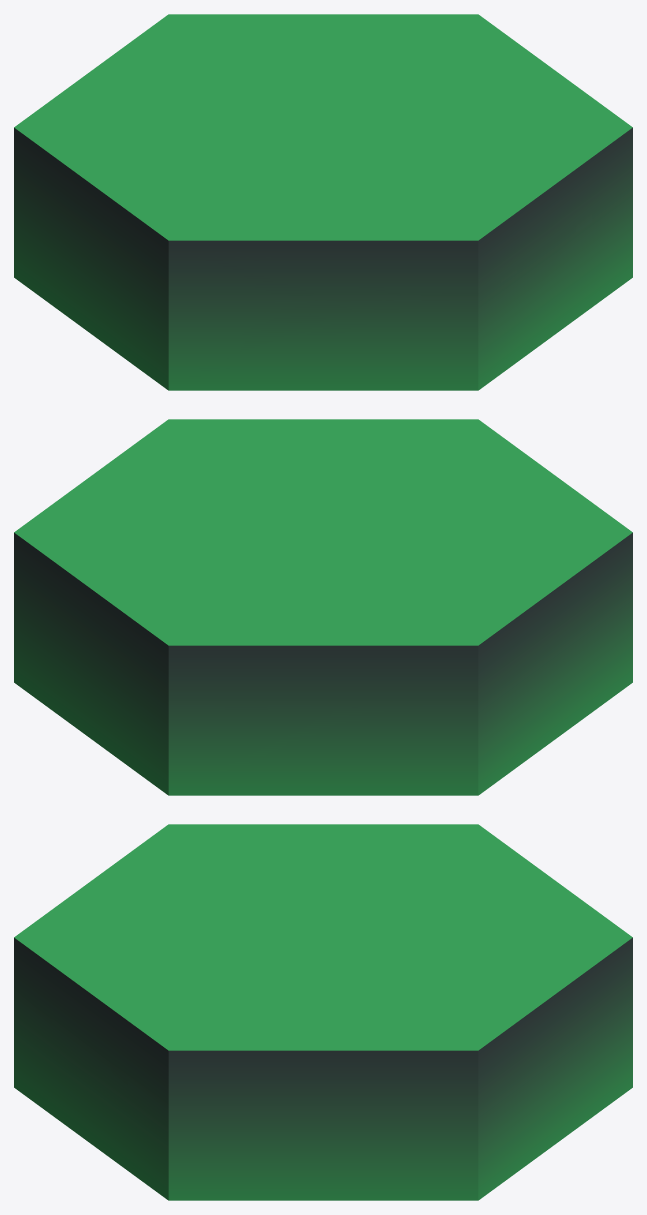
File: Grade_6.fbx
3 renders of one model, top to bottom at view 1: azimuth 30°, elevation 25°; view 2: azimuth 150°, elevation 25°; view 3: azimuth 270°, elevation 25°, orthographic.
Parts seen in each view (by area): view 1: Grade_2; view 2: Grade_2; view 3: Grade_2.
Boxes of the visible parts, x1,y1,x2,y2 form: Grade_2: (14,14,632,390); Grade_2: (14,419,632,795); Grade_2: (14,824,632,1200).
Bounding box in the file's own units: 1.73 × 2 × 0.5351.
